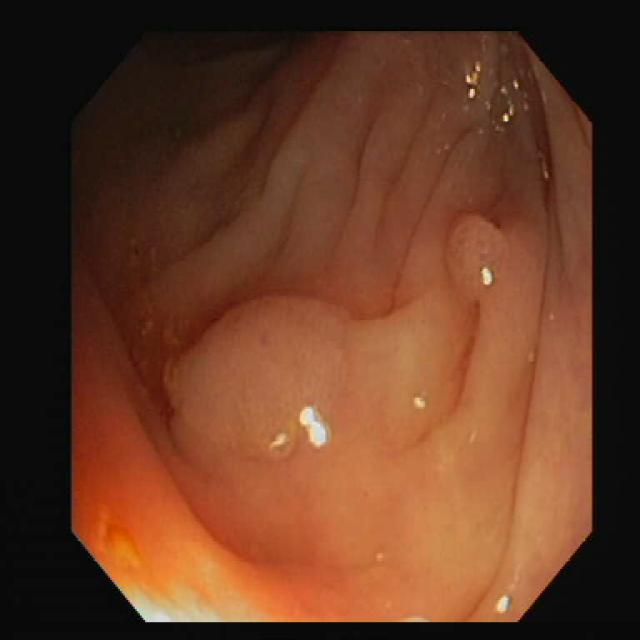tumor: (165, 300, 345, 451), (448, 216, 503, 296)
